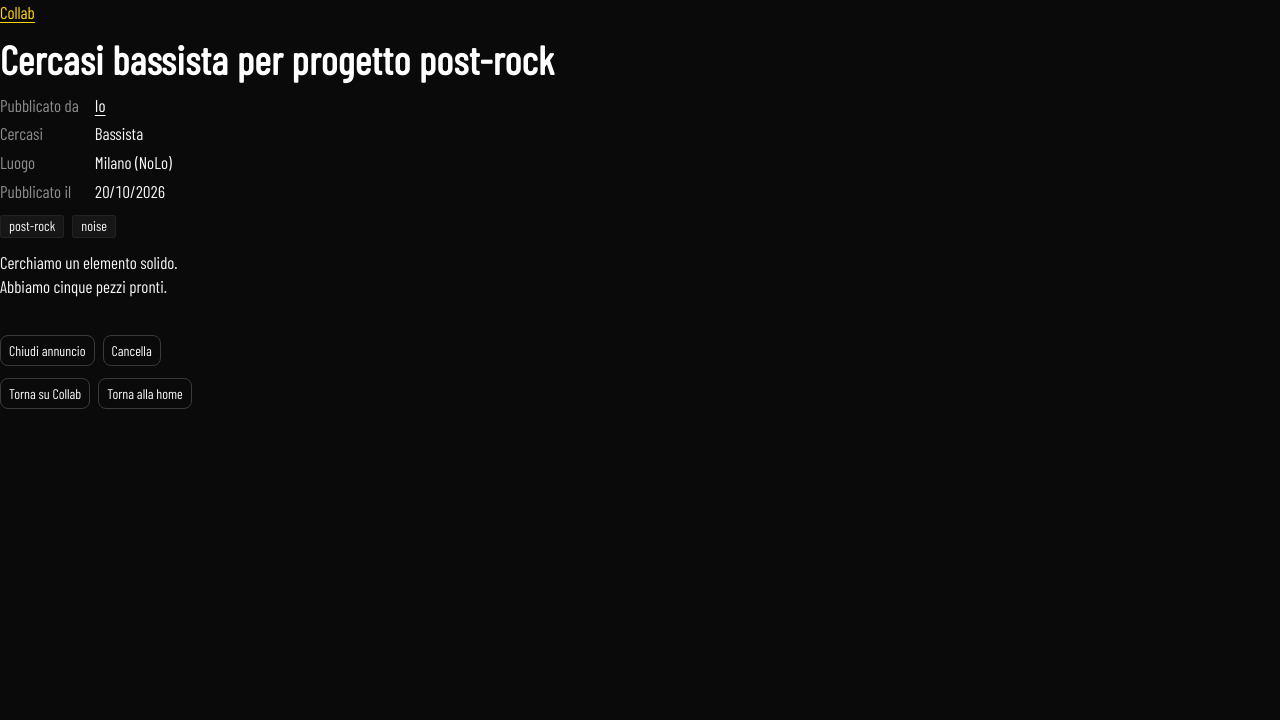
Test case: CollabDetailPage · azioni del proprietario › confermando la chiusura chiama il server e l'annuncio mostra «Chiuso» senza più «Chiudi annuncio»
The image size is (1280, 720).
Click the button "Chiudi annuncio" at (47, 350), box 0,335 -> 94,366
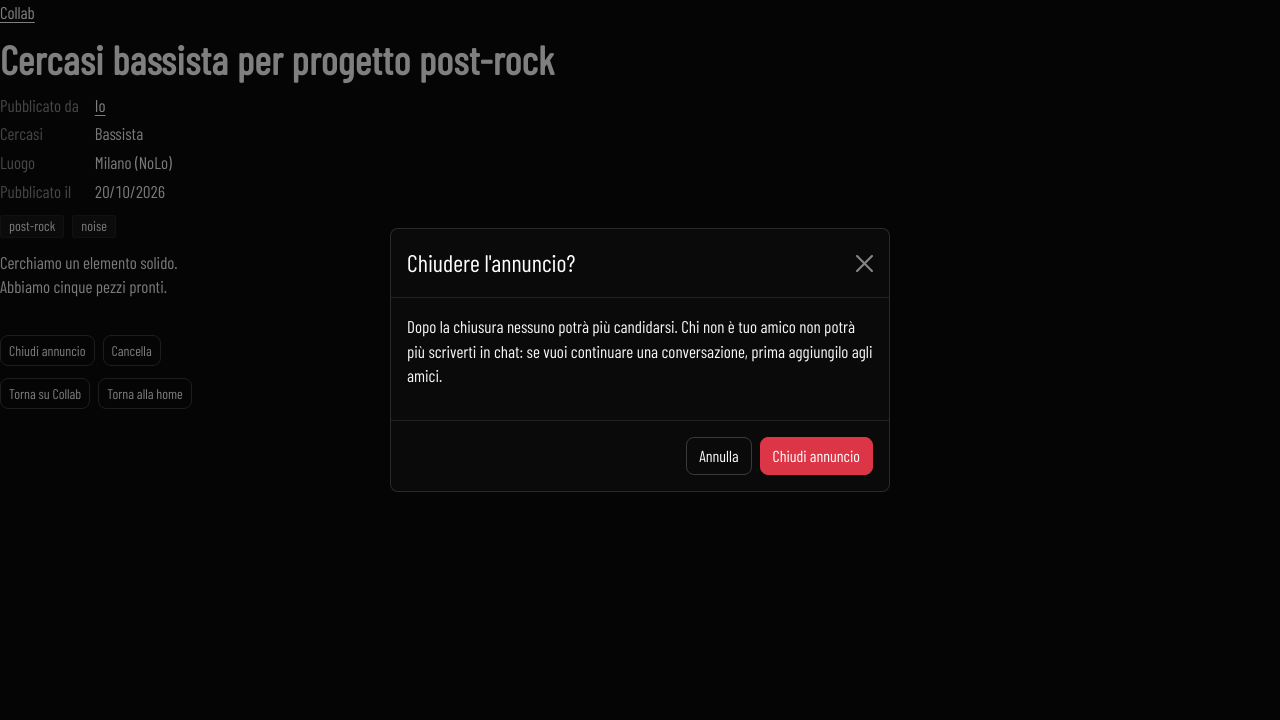
Click the button "Chiudi annuncio" at (816, 456), box 760,437 -> 873,475
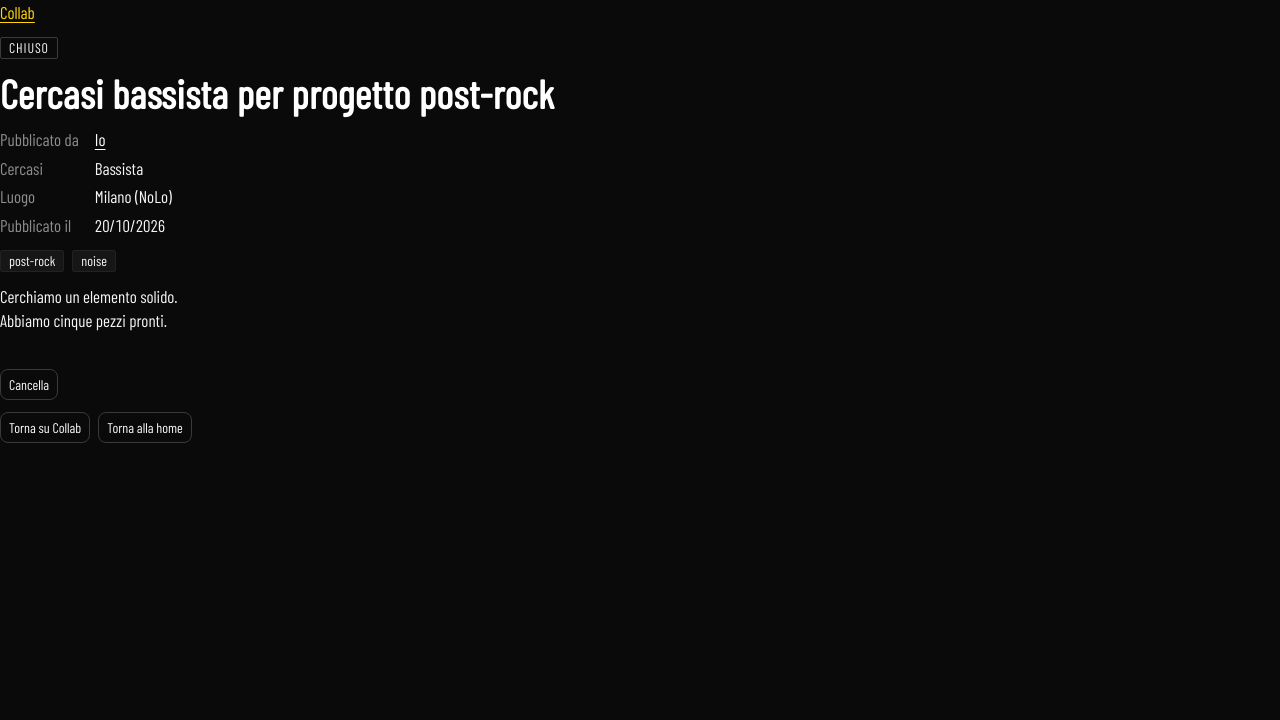
Expected: the text "Chiuso" is shown, 0,37 -> 58,59
Expected: the button "Chiudi annuncio" is gone
